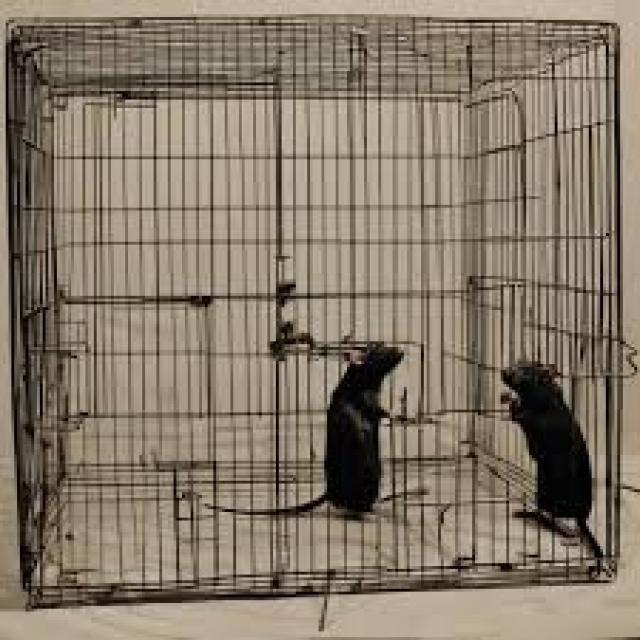Rat: (476, 358, 619, 588), (296, 328, 424, 562)
